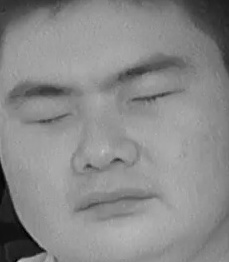blink: (130, 82, 180, 114), (20, 105, 72, 133)
mouth: (70, 177, 162, 226)
